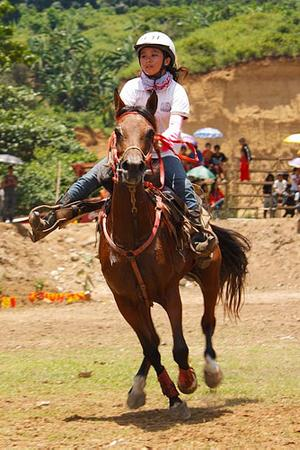person: (29, 30, 215, 269)
